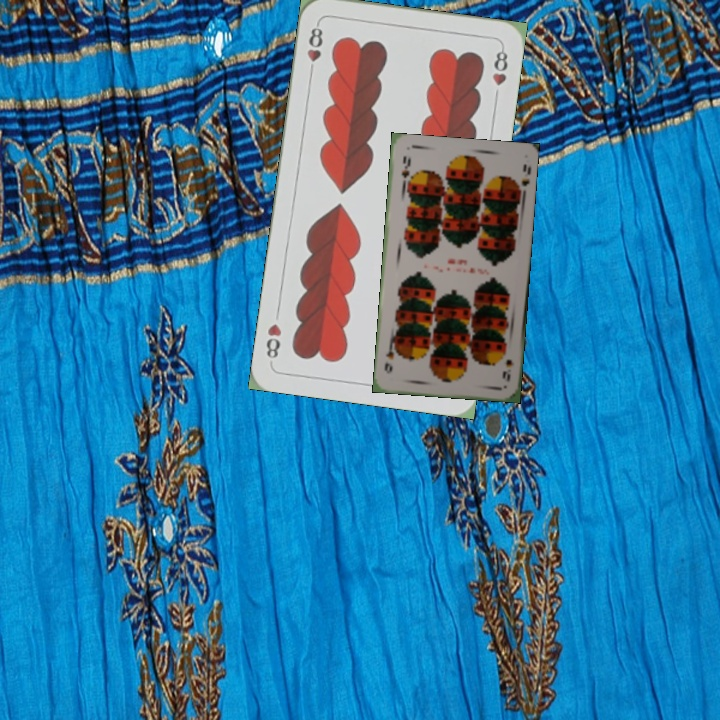H8: (303, 19, 326, 78)
S9: (397, 152, 412, 189), (498, 355, 516, 384)
